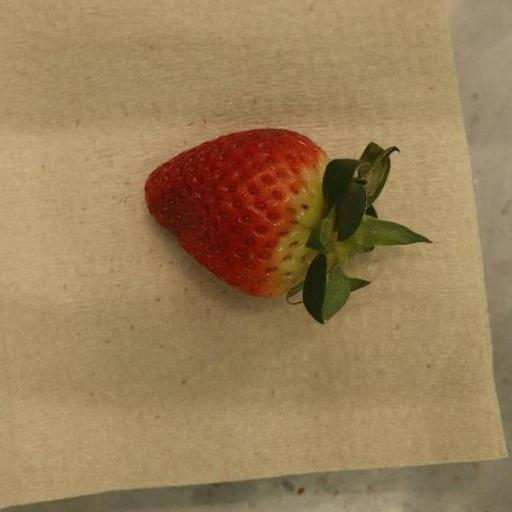Strawberry: (145, 129, 433, 324)
